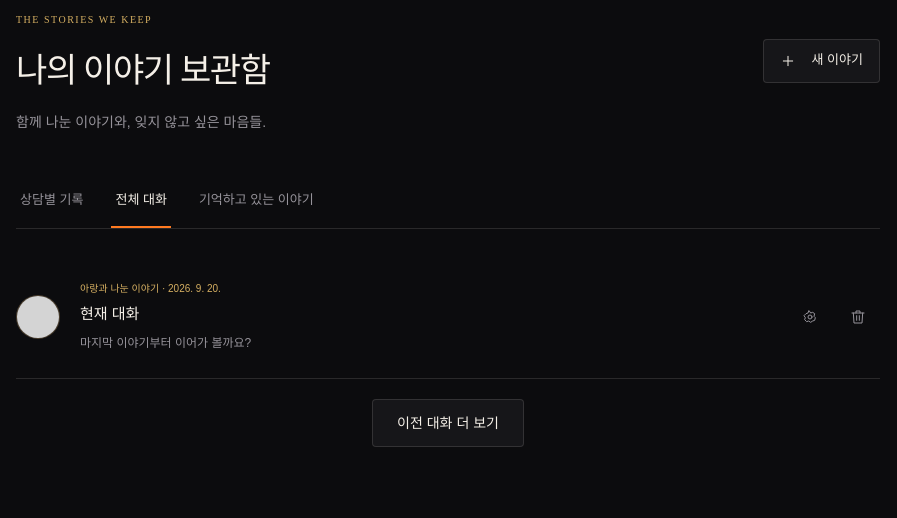
Scenario: paginated saved history › continues conversation history through the nullable last-message cursor
This screenshot has width=897, height=518.
Expected: the heading "현재 대화" is shown, x1=80 y1=305 x2=139 y2=322
Click the button "이전 대화 더 보기" at (448, 423), box x1=372 y1=399 x2=524 y2=447
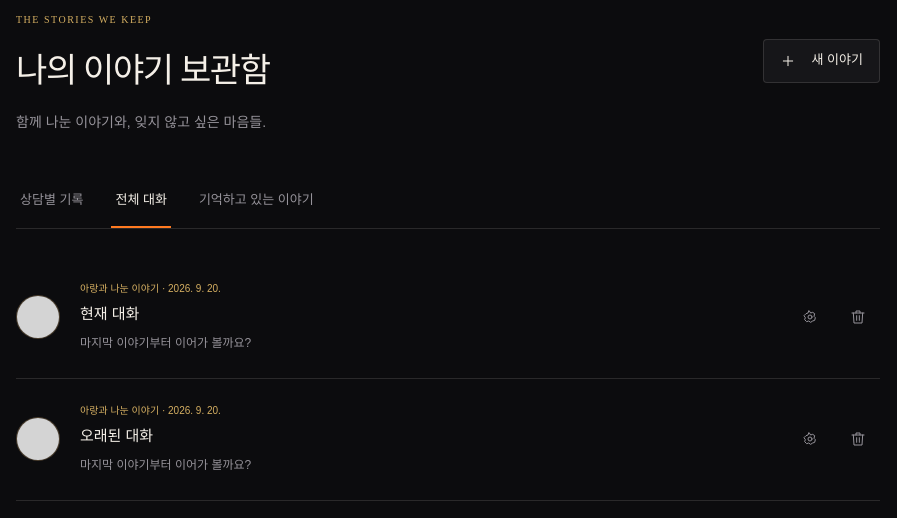
Expected: the heading "오래된 대화" is shown, x1=80 y1=427 x2=153 y2=444
Expected: the text "아랑과 나눈 이야기 · 2026. 9. 20." is shown 2 times, x1=80 y1=283 x2=221 y2=294; x1=80 y1=405 x2=221 y2=416
